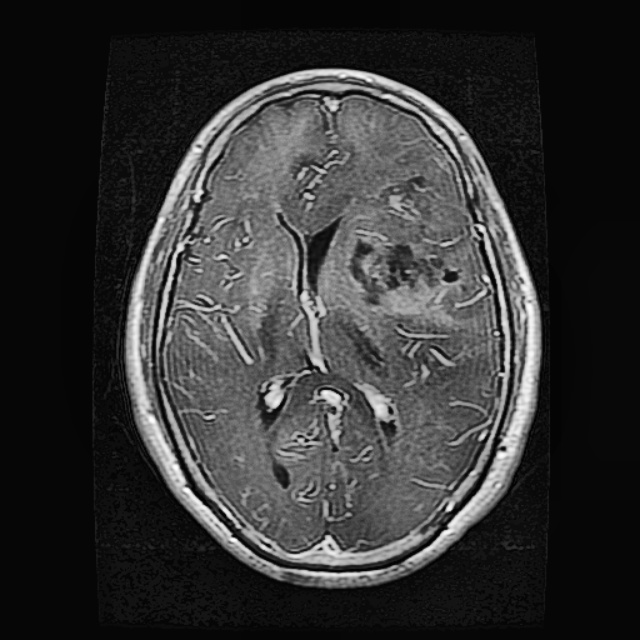Pituitary: (323, 172, 477, 330)
